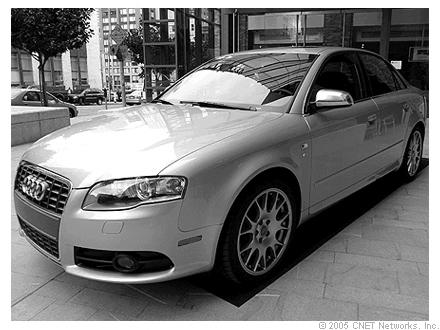car: (15, 43, 428, 289)
